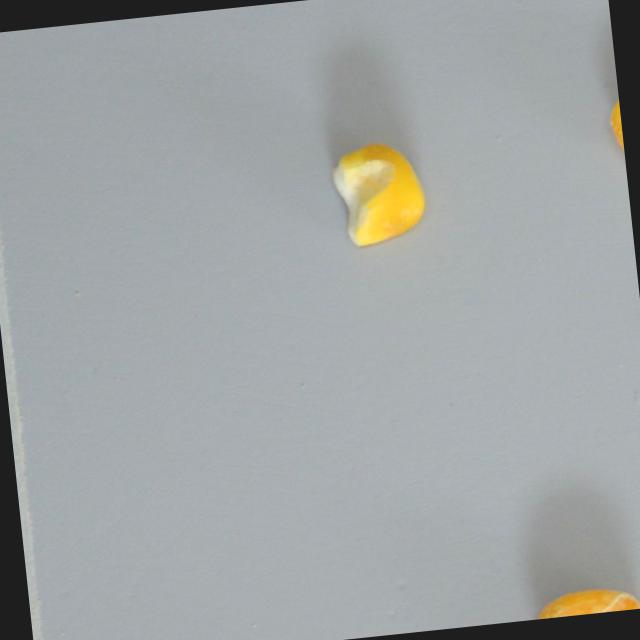no_canjicado: (327, 138, 430, 249)
pelicula: (532, 581, 640, 619), (601, 70, 626, 174)
